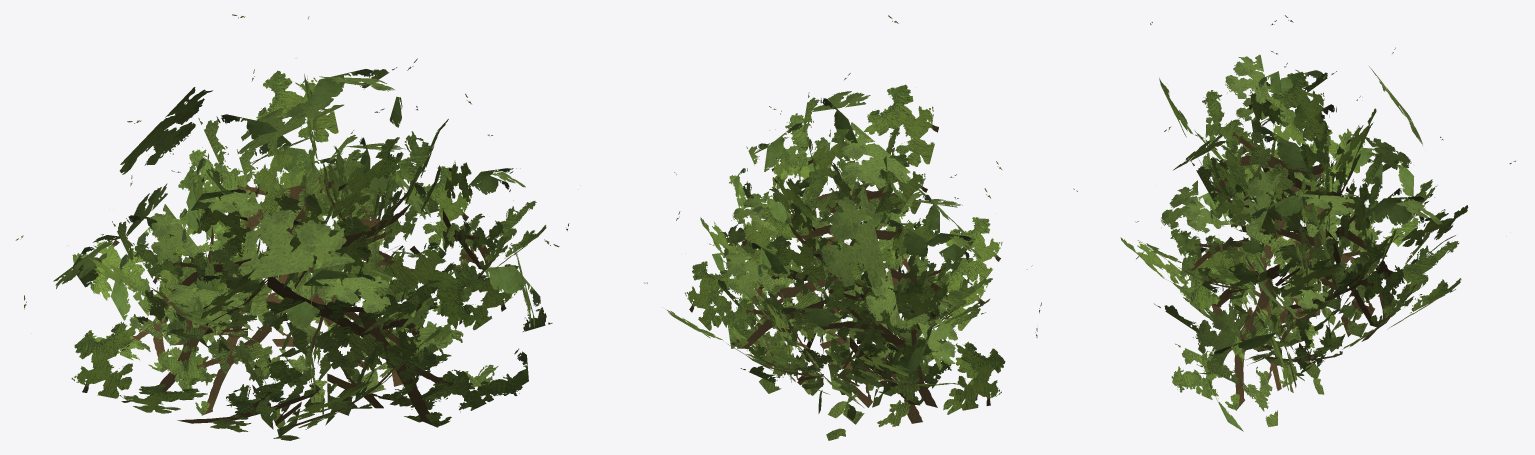
The model's file is Arbre_005_Feuillage.fbx.
3 renders of one model, left to right at view 1: azimuth 30°, elevation 25°; view 2: azimuth 150°, elevation 25°; view 3: azimuth 270°, elevation 25°, orthographic. The views are drawn at different scales.
Parts seen in each view (by area): view 1: Arbre_005_Feuillage; view 2: Arbre_005_Feuillage; view 3: Arbre_005_Feuillage.
Part boxes in pixels (x1=…): Arbre_005_Feuillage: x1=15, y1=14, x2=569, y2=440; Arbre_005_Feuillage: x1=644, y1=15, x2=1041, y2=440; Arbre_005_Feuillage: x1=1073, y1=15, x2=1515, y2=431.
Bounding box in the file's own units: 6.21 × 5.35 × 5.65.
